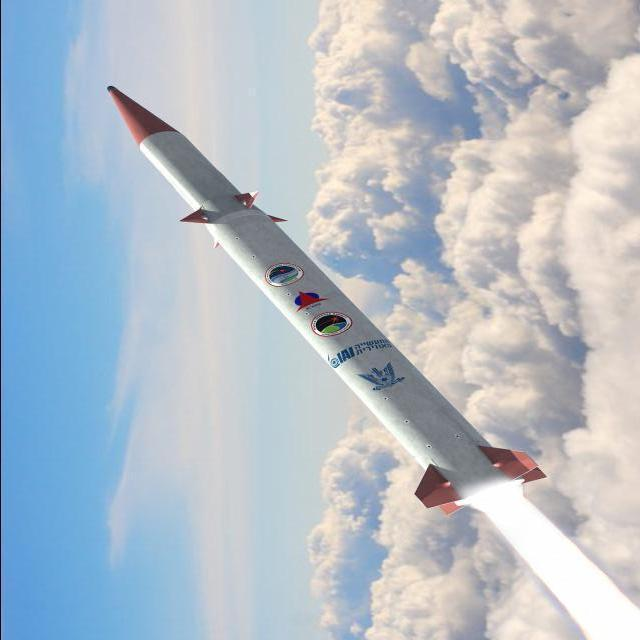missile: (106, 82, 548, 524)
